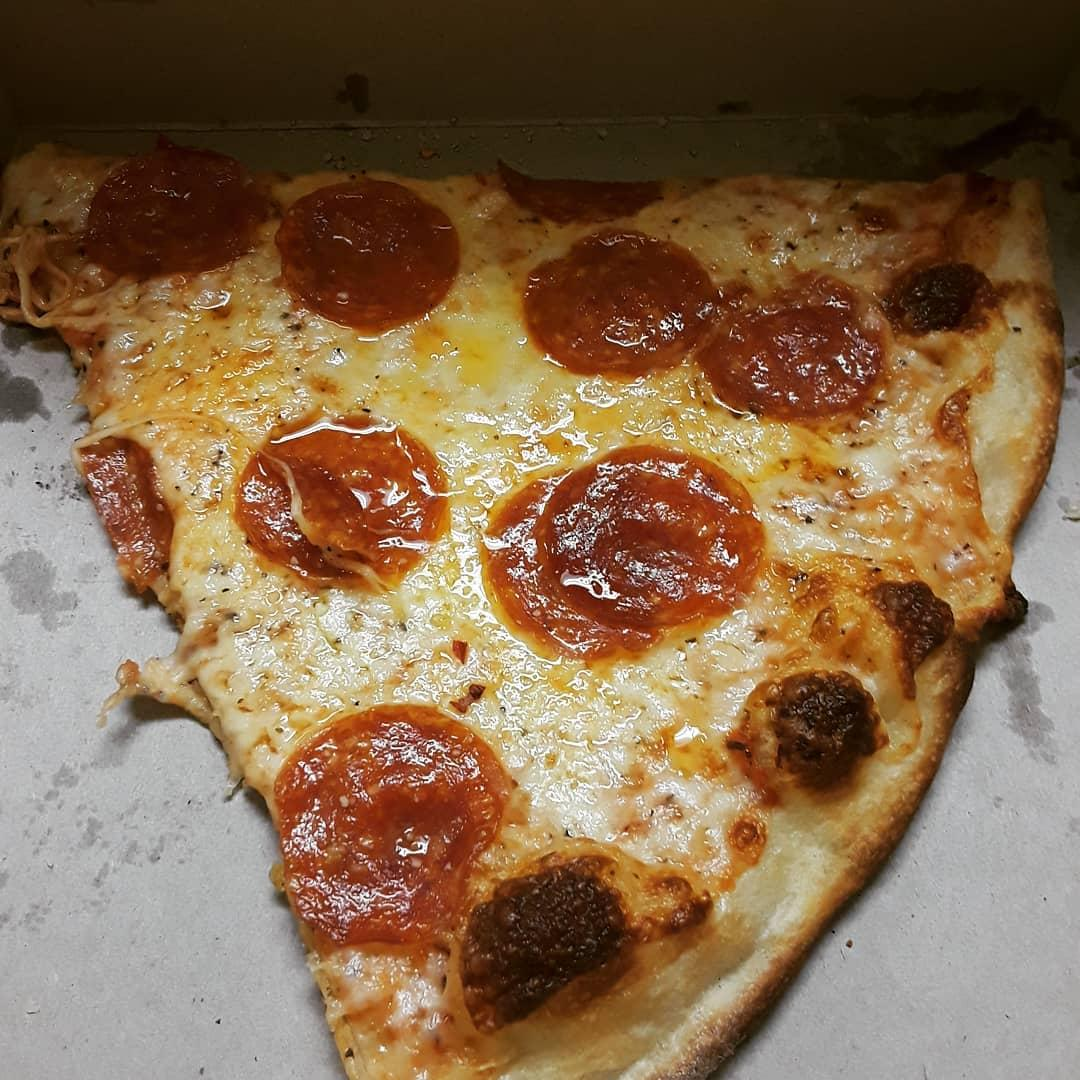Pepperoni: (269, 705, 506, 955), (537, 441, 766, 626), (234, 409, 450, 589), (475, 473, 672, 661), (517, 235, 710, 374), (277, 185, 457, 329), (73, 161, 264, 277), (707, 301, 882, 417), (81, 437, 176, 588), (489, 177, 657, 221)
Pizza: (0, 157, 1080, 1080)
